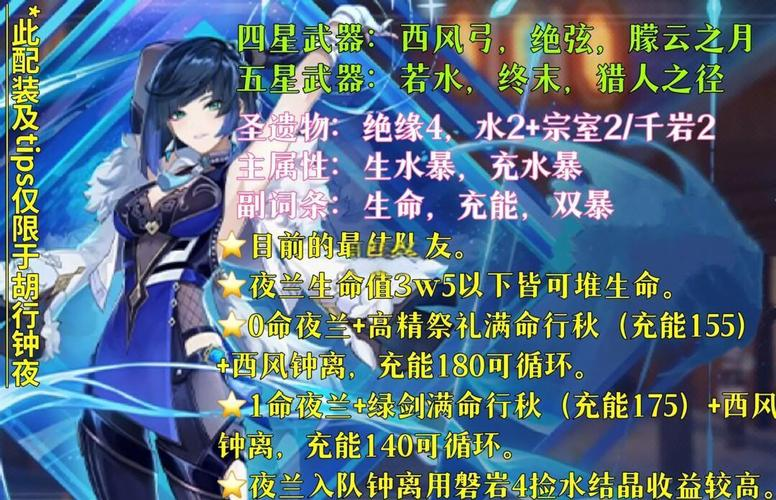夜兰: (70, 3, 396, 500)
